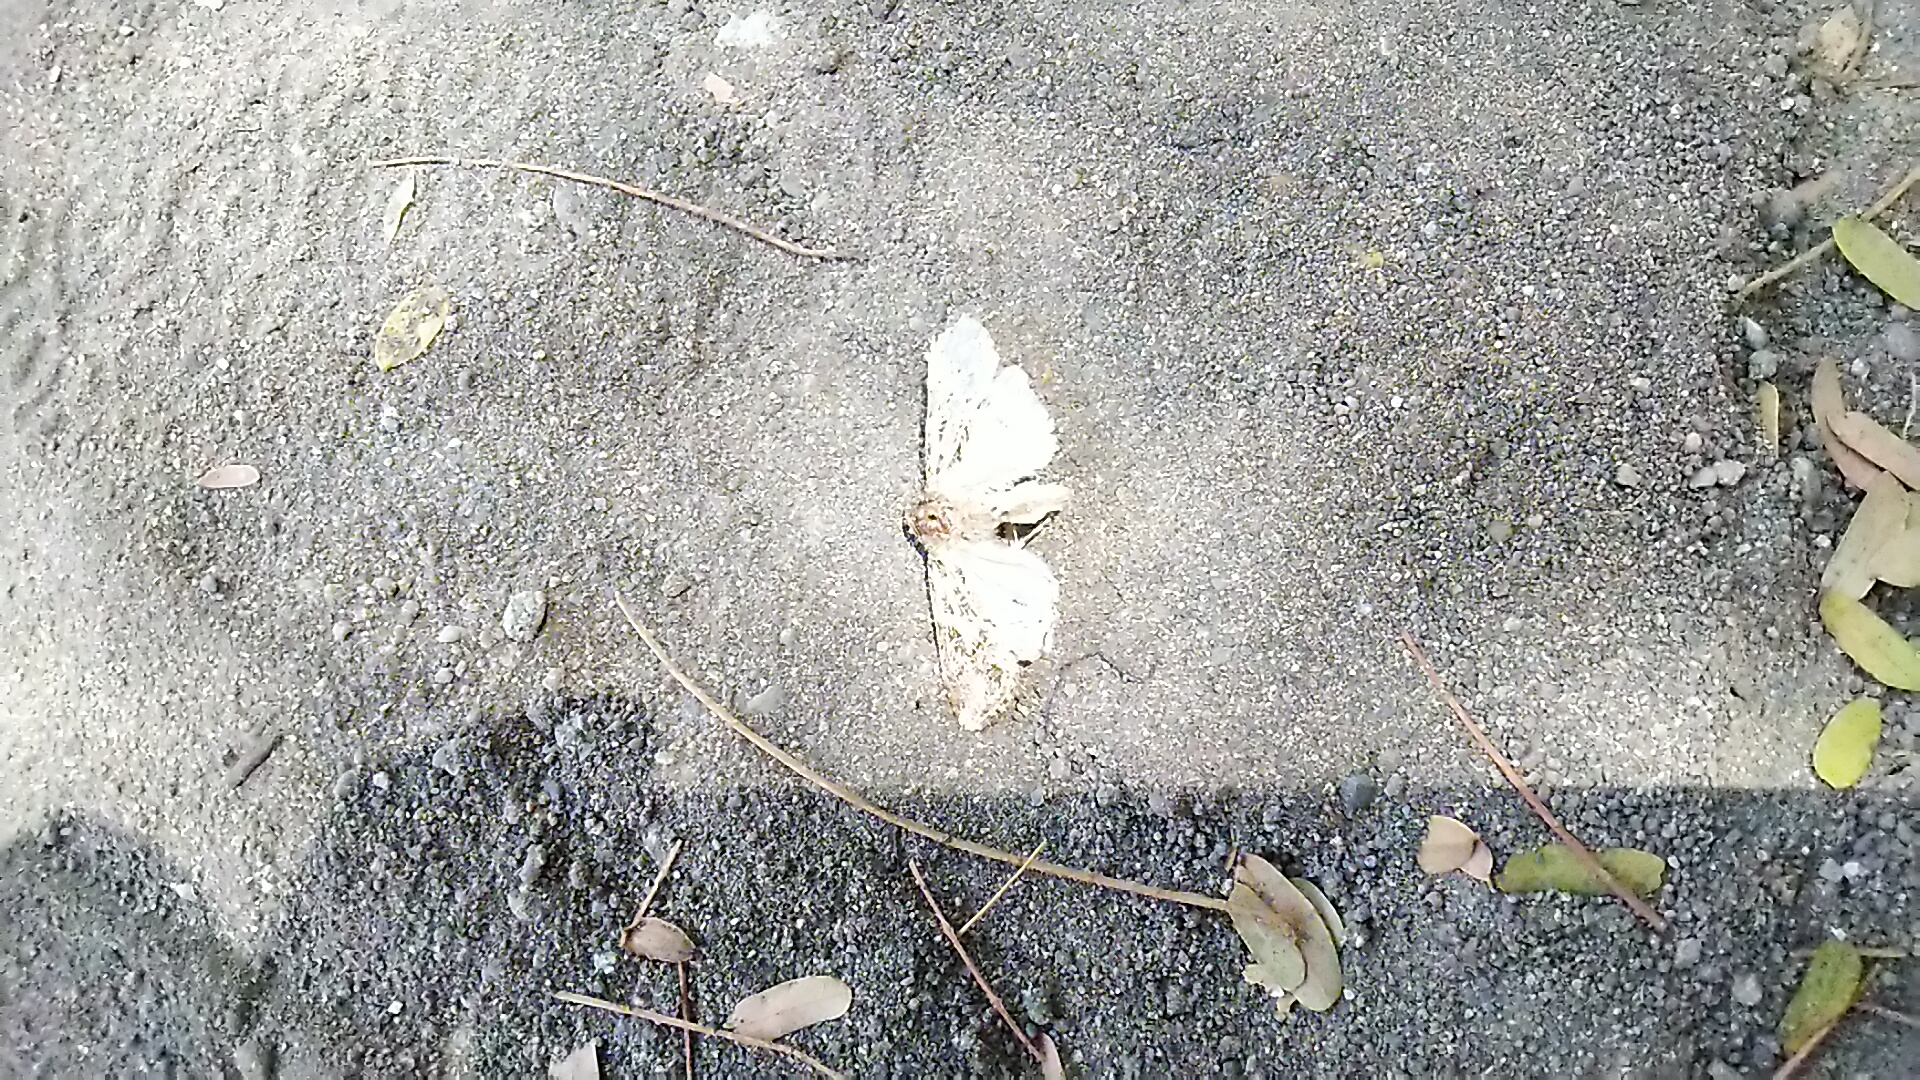INS-B: (884, 290, 1108, 750)
